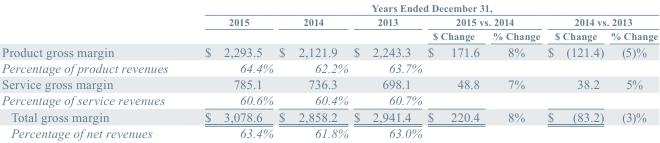table: (0, 1, 657, 139)
table column: (0, 1, 185, 139), (185, 1, 275, 139), (275, 1, 350, 139), (350, 1, 424, 139), (543, 1, 606, 139), (424, 1, 485, 139), (485, 1, 543, 139), (606, 1, 657, 139)
table column header: (0, 1, 657, 42)
table row: (0, 42, 657, 59), (0, 91, 657, 108), (0, 59, 657, 75), (0, 75, 657, 91), (0, 108, 657, 124), (0, 124, 657, 139), (0, 14, 657, 28), (0, 28, 657, 42), (0, 1, 657, 14)
table spanning cell: (185, 1, 657, 14), (185, 14, 275, 42), (275, 14, 350, 42), (350, 14, 424, 42), (424, 14, 543, 28), (543, 14, 657, 28)
